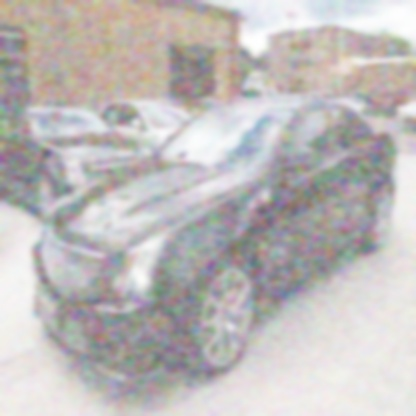Vehicle: (29, 86, 398, 388)
